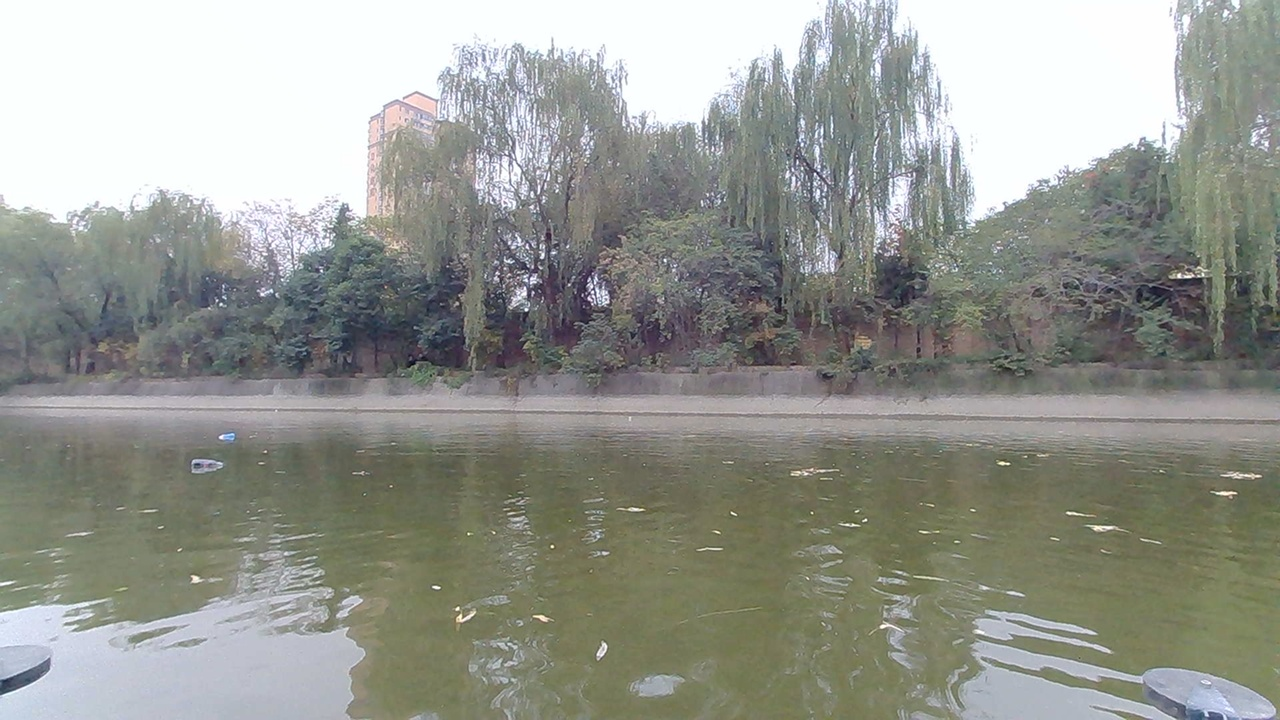bottle: (179, 443, 223, 471), (212, 419, 245, 443)
